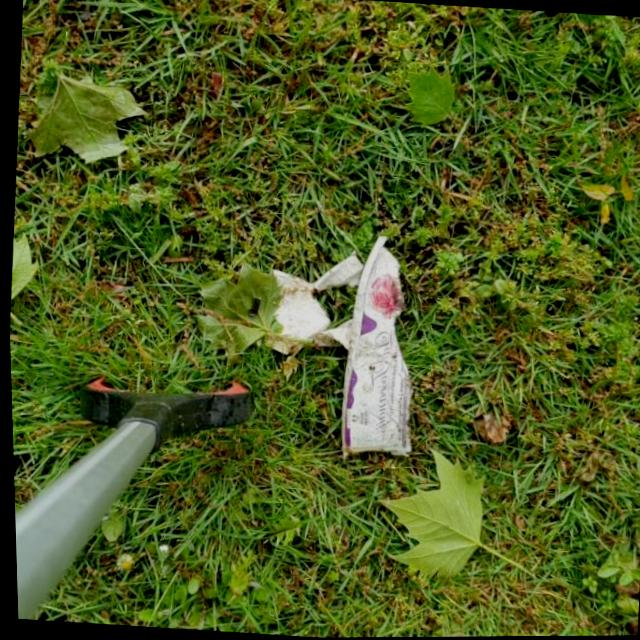Paper: (245, 227, 425, 468)
